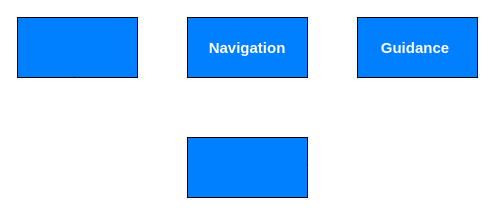
Some shapes in this 495 by 215 pixel diagram are drawn without their labels. Here are the shapes that lost their labels. From the top down, the centre of each, then its label:
At [77,47]: "Dynamics".
At [247,167]: "Control".
